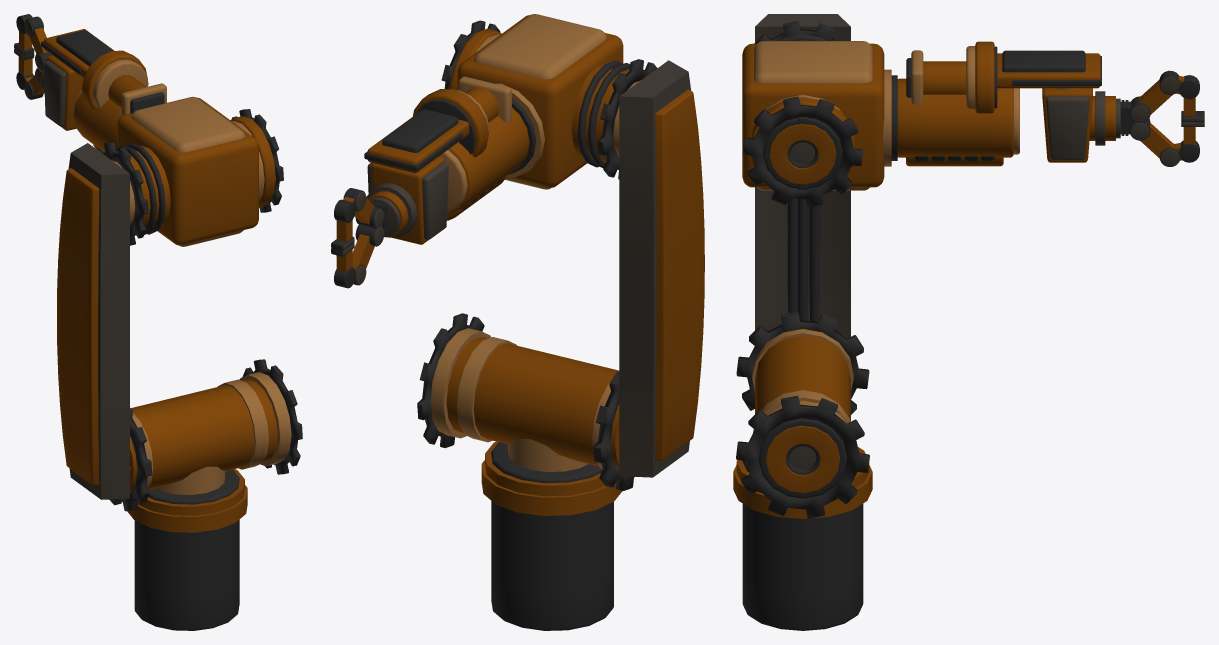
File: Манипулятор.fbx
3 views of the same model, side by side, from view 1: azimuth 30°, elevation 25°; view 2: azimuth 150°, elevation 25°; view 3: azimuth 270°, elevation 25° (orthographic). The views are drawn at different scales.
Visible parts, largest first — view 1: Cube_2_2, Cube_3, Cylinder_3, Cube_4_2, Cylinder_1_2, Cube_1_3, Cylinder, Cylinder_7_2, Cylinder_5, Шестеренушка_4, Cylinder_10, Шестеренушка_1 (+17 smaller); view 2: Cube_2_2, Cube_3, Cylinder_3, Cylinder_1_2, Cube_4_2, Cube_1_3, Cylinder_7_2, Cylinder, Шестеренушка_4, Cylinder_5, Cylinder_10, Шестеренушка_1 (+23 smaller); view 3: Cylinder_3, Шестеренушка_4, Cube_2_2, Шестеренушка, Cube_4_2, Cylinder_7_2, Cylinder_1_2, Cube_1_3, Шестеренушка_2, Cube_8, Cube_5, Cylinder (+14 smaller).
Boxes of the visible parts, x1,y1,x2,y2 form: Cube_2_2: [68, 143, 129, 499]; Cube_3: [57, 168, 99, 485]; Cylinder_3: [134, 469, 239, 630]; Cube_4_2: [117, 97, 258, 245]; Cylinder_1_2: [130, 379, 277, 492]; Cube_1_3: [131, 96, 244, 246]; Cylinder: [127, 485, 247, 532]; Cylinder_7_2: [73, 92, 121, 152]; Cylinder_5: [239, 372, 291, 466]; Шестеренушка_4: [242, 359, 302, 474]; Cylinder_10: [217, 379, 268, 469]; Шестеренушка_1: [98, 142, 148, 245]; Cube_2_2: [619, 60, 691, 477]; Cube_3: [655, 89, 704, 460]; Cylinder_3: [491, 442, 613, 630]; Cylinder_1_2: [446, 337, 619, 469]; Cube_4_2: [457, 15, 623, 187]; Cube_1_3: [474, 14, 606, 189]; Cylinder_7_2: [447, 107, 529, 213]; Cylinder: [481, 460, 622, 515]; Шестеренушка_4: [417, 313, 484, 448]; Cylinder_5: [430, 328, 490, 438]; Cylinder_10: [456, 337, 516, 442]; Шестеренушка_1: [597, 59, 657, 179]; Cylinder_3: [742, 450, 863, 630]; Шестеренушка_4: [736, 395, 869, 518]; Cube_2_2: [755, 14, 850, 338]; Шестеренушка: [742, 96, 862, 207]; Cube_4_2: [742, 43, 884, 187]; Cylinder_7_2: [897, 78, 1013, 157]; Cylinder_1_2: [755, 335, 850, 421]; Cube_1_3: [754, 41, 872, 190]; Шестеренушка_2: [736, 311, 869, 414]; Cube_8: [1046, 96, 1089, 159]; Cube_5: [1002, 50, 1085, 72]; Cylinder: [733, 465, 872, 518].
Bounding box in the file's own units: 268 × 627 × 474.
